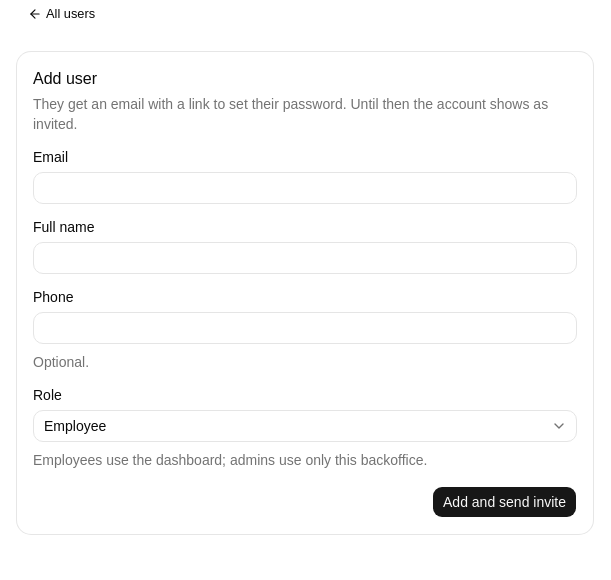
CreateUserPage › checks the form before sending it
Type "not-an-email" into the field labelled "Email" at [305, 188], box x1=33 y1=172 x2=577 y2=204
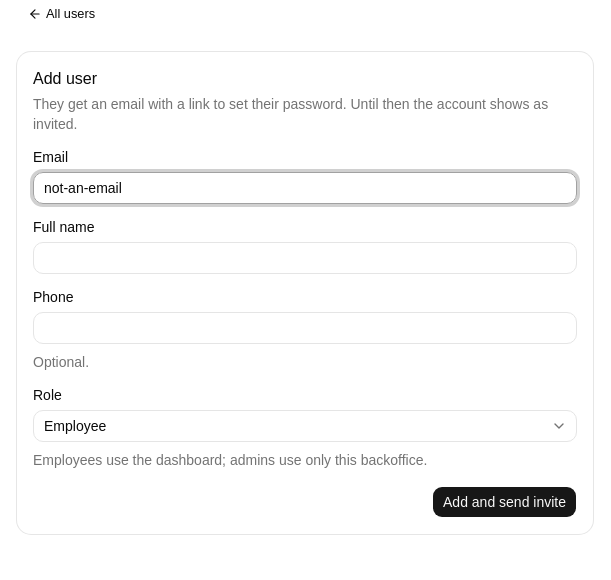
Type "Budi Santoso" into the field labelled "Full name" at [305, 258], box x1=33 y1=242 x2=577 y2=274
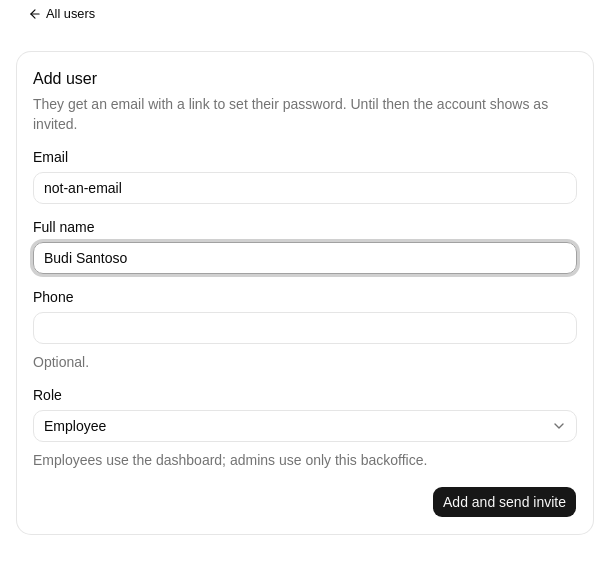
Click the button "Add and send invite" at [504, 502], box x1=432 y1=486 x2=577 y2=518
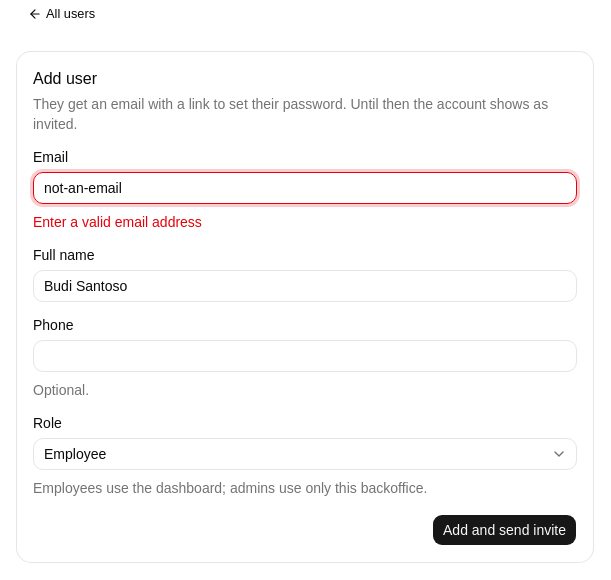
Result: the text "Enter a valid email address" is shown at x1=33 y1=214 x2=202 y2=230
